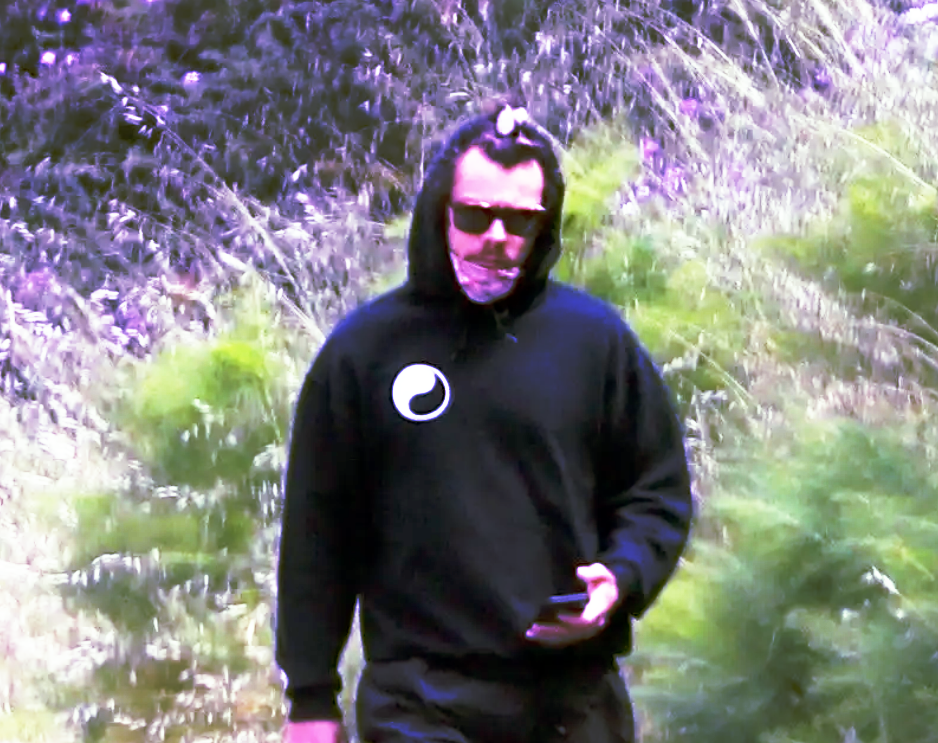mask_weared_incorrect: (426, 126, 563, 312)
